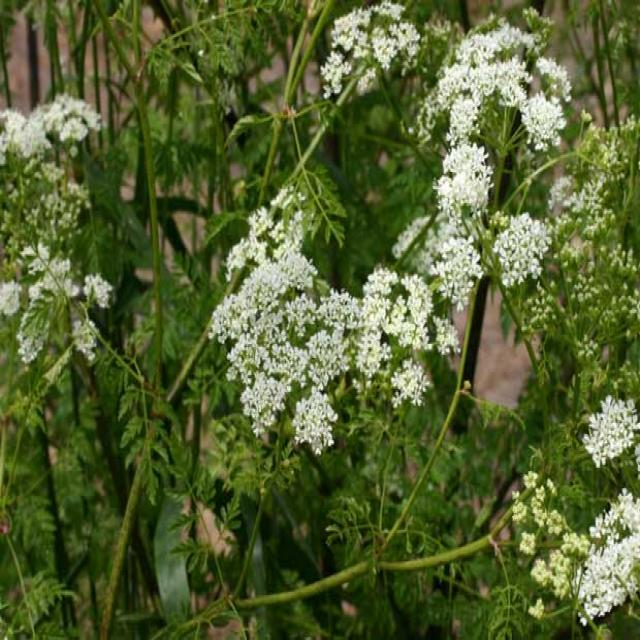Poisonous-Hemlock: (191, 0, 640, 640), (0, 80, 138, 437)
